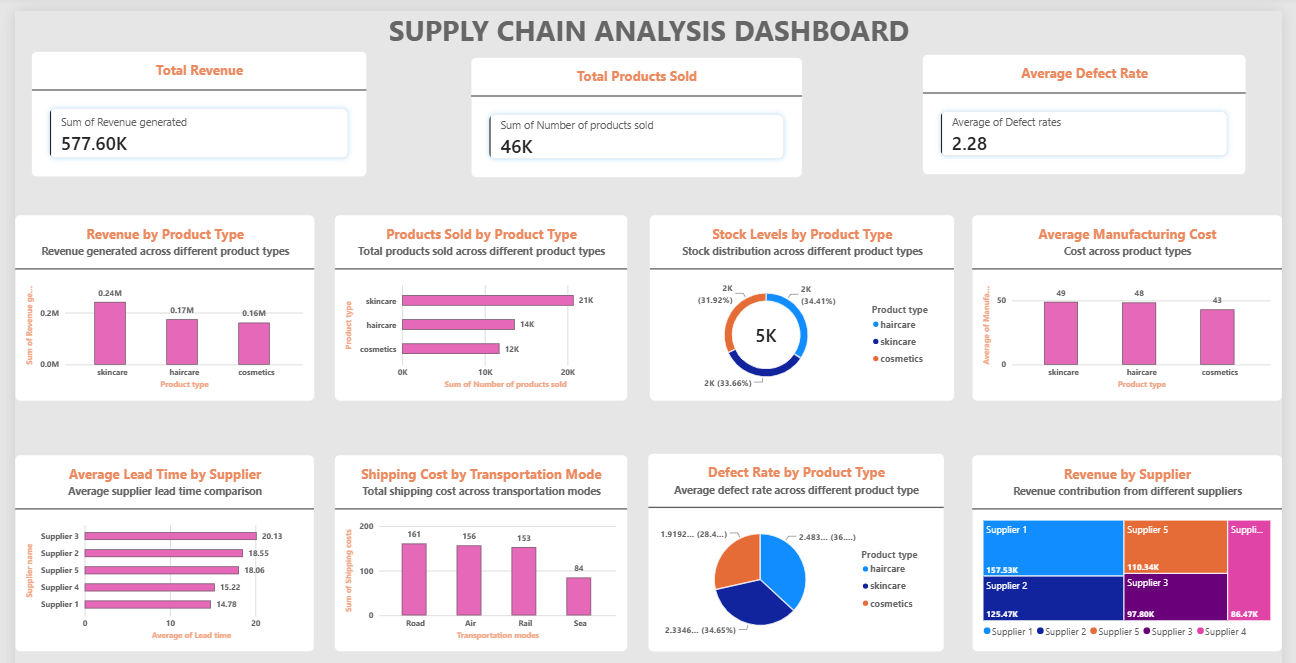

The page's visual inventory and layout, read from the dashboard file:
{"tool":"powerbi","page":{"name":"Page 1","canvas":[1280,720],"ordinal":0},"visuals":[{"type":"clusteredColumnChart","fields":{"Category":["Supply_Chain_Cleaned.Product type"],"Y":["Sum(Supply_Chain_Cleaned.Revenue generated)"]},"box":[19.2,20.6,279.9,279.9],"z":0},{"type":"clusteredBarChart","fields":{"Category":["Supply_Chain_Cleaned.Product type"],"Y":["Sum(Supply_Chain_Cleaned.Number of products sold)"]},"box":[315.7,20,280,280],"z":1000},{"type":"donutChart","fields":{"Category":["Supply_Chain_Cleaned.Product type"],"Y":["Sum(Supply_Chain_Cleaned.Stock levels)"]},"box":[615.7,20,280,280],"z":2000},{"type":"clusteredColumnChart","fields":{"Category":["Supply_Chain_Cleaned.Product type"],"Y":["Avg(Supply_Chain_Cleaned.Manufacturing costs)"]},"box":[917.1,20,280,280],"z":3000},{"type":"clusteredBarChart","fields":{"Category":["Supply_Chain_Cleaned.Supplier name"],"Y":["Sum(Supply_Chain_Cleaned.Lead time)"]},"box":[18.6,317.1,280,280],"z":4000},{"type":"clusteredColumnChart","fields":{"Category":["Supply_Chain_Cleaned.Transportation modes"],"Y":["Sum(Supply_Chain_Cleaned.Shipping costs)"]},"box":[315.7,317.1,280,280],"z":5000},{"type":"pieChart","fields":{"Category":["Supply_Chain_Cleaned.Product type"],"Y":["Sum(Supply_Chain_Cleaned.Defect rates)"]},"box":[615.7,317.1,280,280],"z":6000},{"type":"treemap","fields":{"Details":["Supply_Chain_Cleaned.Revenue generated"],"Group":["Supply_Chain_Cleaned.Supplier name"],"Values":["CountNonNull(Supply_Chain_Cleaned.Supplier name)"]},"box":[917.1,317.1,280,280],"z":7000}]}

Visuals, with their boxes on the page's 1280x720 design canvas (x1, y1, x2, y2). These are canvas units, not pixel positions in the 1296x663 screenshot, which may show the page scaled, cropped or inside an application window:
clusteredColumnChart - Supply_Chain_Cleaned.Product type x Sum(Supply_Chain_Cleaned.Revenue generated): (19,21,299,300)
clusteredBarChart - Supply_Chain_Cleaned.Product type x Sum(Supply_Chain_Cleaned.Number of products sold): (316,20,596,300)
donutChart - Supply_Chain_Cleaned.Product type x Sum(Supply_Chain_Cleaned.Stock levels): (616,20,896,300)
clusteredColumnChart - Supply_Chain_Cleaned.Product type x Avg(Supply_Chain_Cleaned.Manufacturing costs): (917,20,1197,300)
clusteredBarChart - Supply_Chain_Cleaned.Supplier name x Sum(Supply_Chain_Cleaned.Lead time): (19,317,299,597)
clusteredColumnChart - Supply_Chain_Cleaned.Transportation modes x Sum(Supply_Chain_Cleaned.Shipping costs): (316,317,596,597)
pieChart - Supply_Chain_Cleaned.Product type x Sum(Supply_Chain_Cleaned.Defect rates): (616,317,896,597)
treemap - Supply_Chain_Cleaned.Revenue generated x Supply_Chain_Cleaned.Supplier name: (917,317,1197,597)
